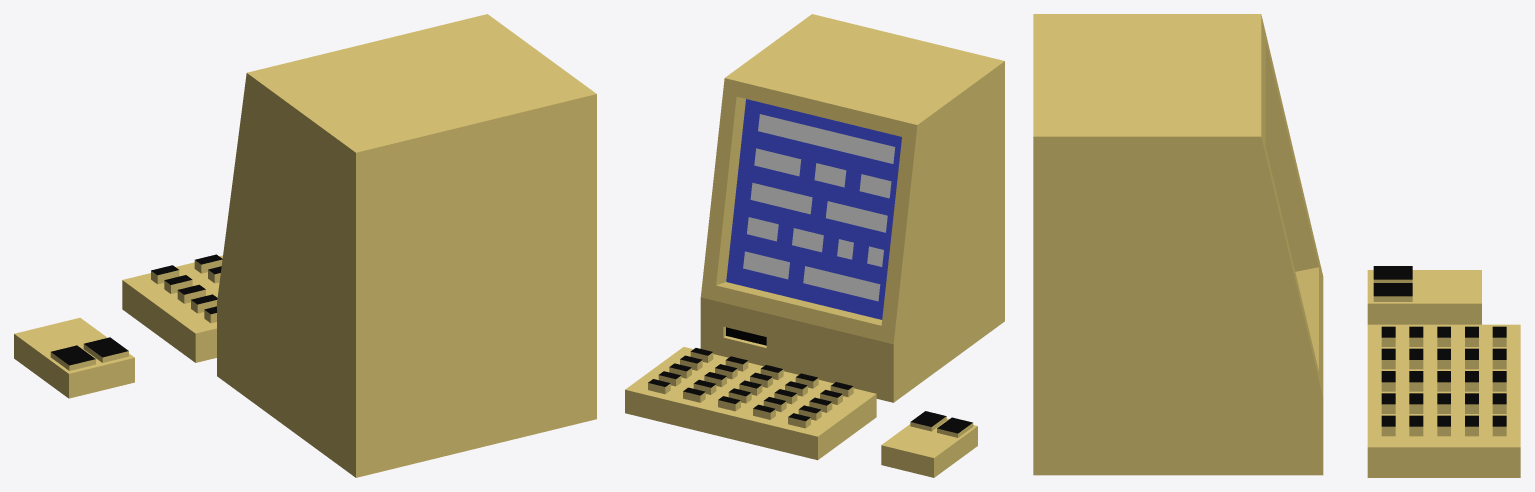
File: Computer.fbx
3 renders of one model, left to right at view 1: azimuth 30°, elevation 25°; view 2: azimuth 150°, elevation 25°; view 3: azimuth 270°, elevation 25°, orthographic. The views are drawn at different scales.
Visible parts, largest first — view 1: Computer; view 2: Computer; view 3: Computer.
Part boxes in pixels (x1,y1,x2,y2): Computer: (14,14,596,477); Computer: (625,14,1004,477); Computer: (1033,14,1520,477).
Size of the model in its own units: 305 by 264 by 336.
